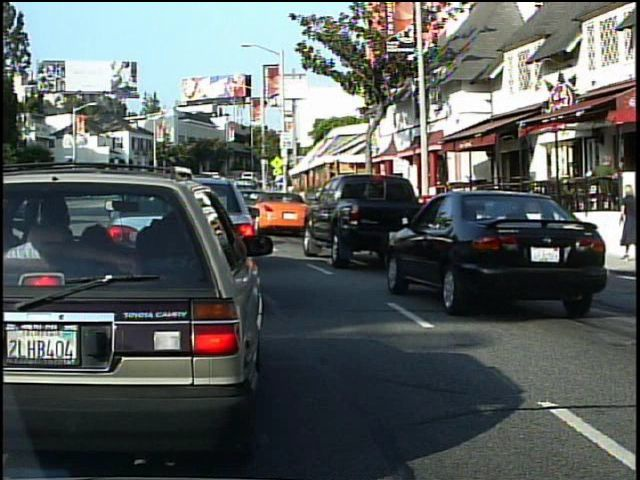person: (588, 149, 622, 233), (614, 180, 637, 264)
